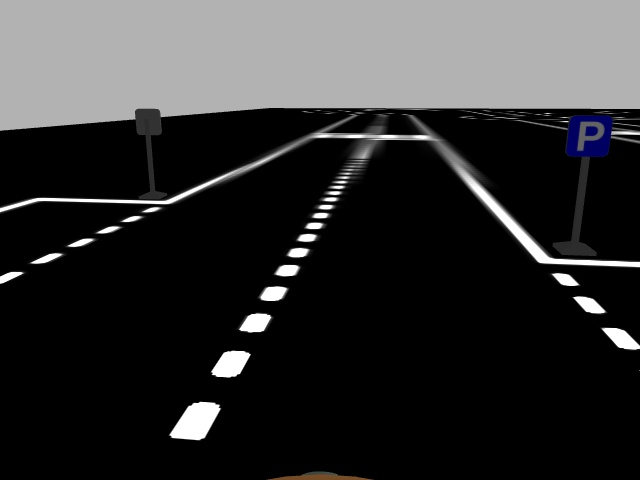parking: (564, 113, 612, 158)
